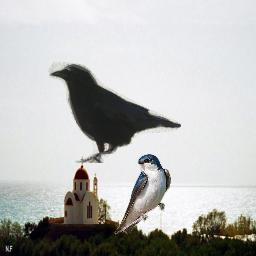Crow: (46, 61, 181, 163)
Swallow: (114, 153, 171, 235)
